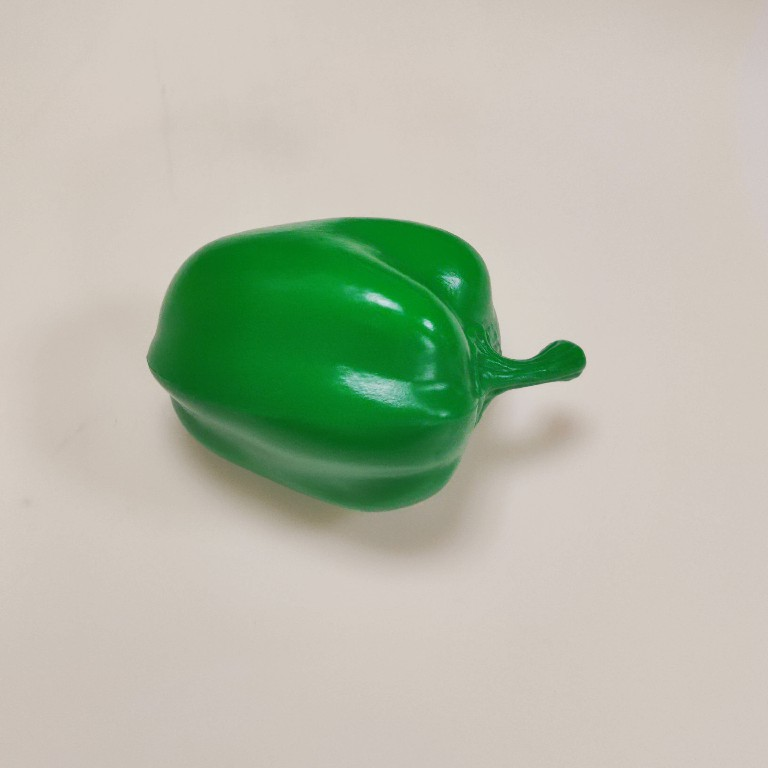fruit_pepper: (142, 213, 590, 518)
